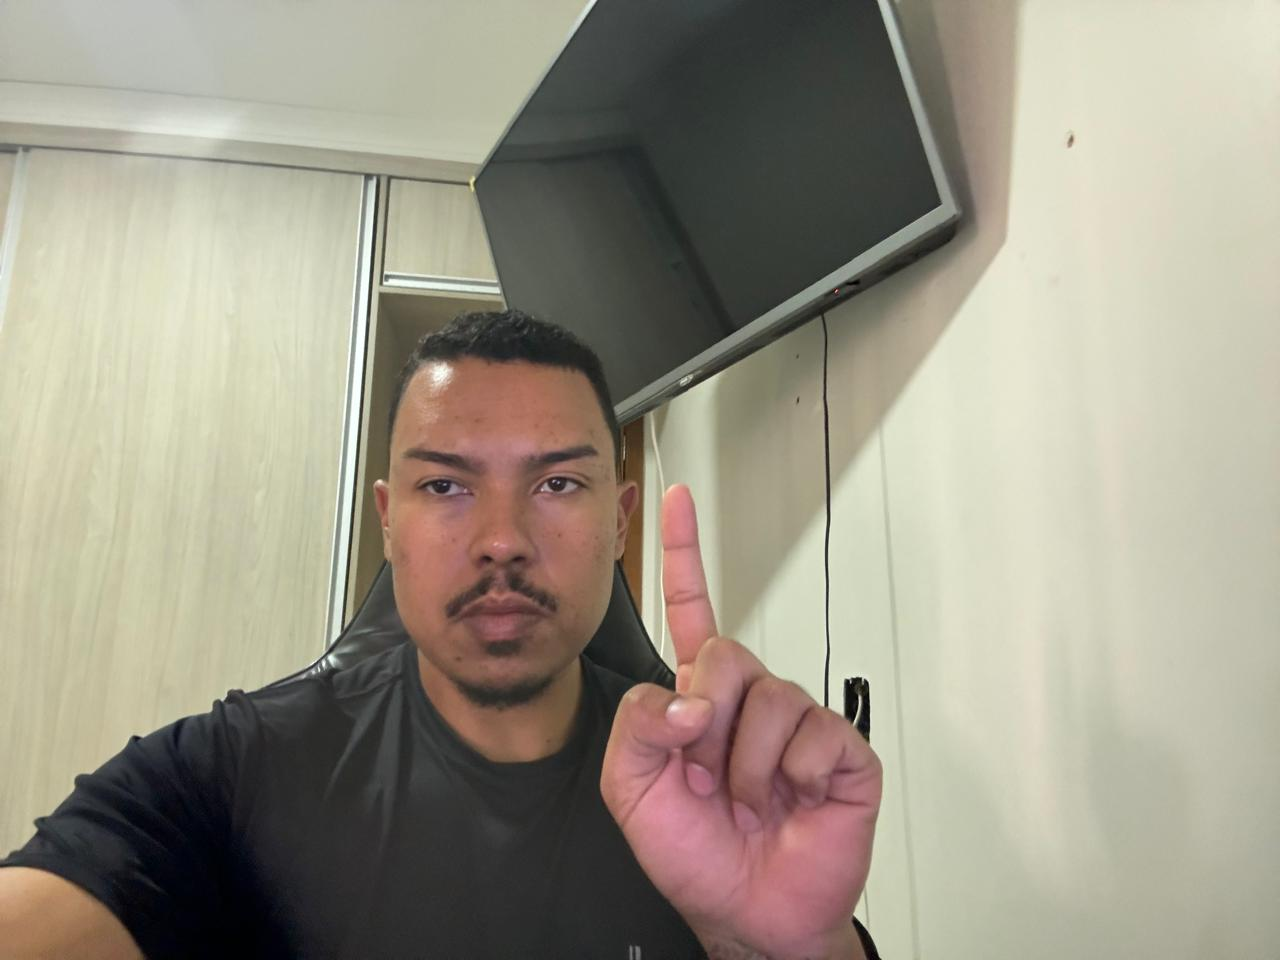z: (577, 474, 889, 948)
